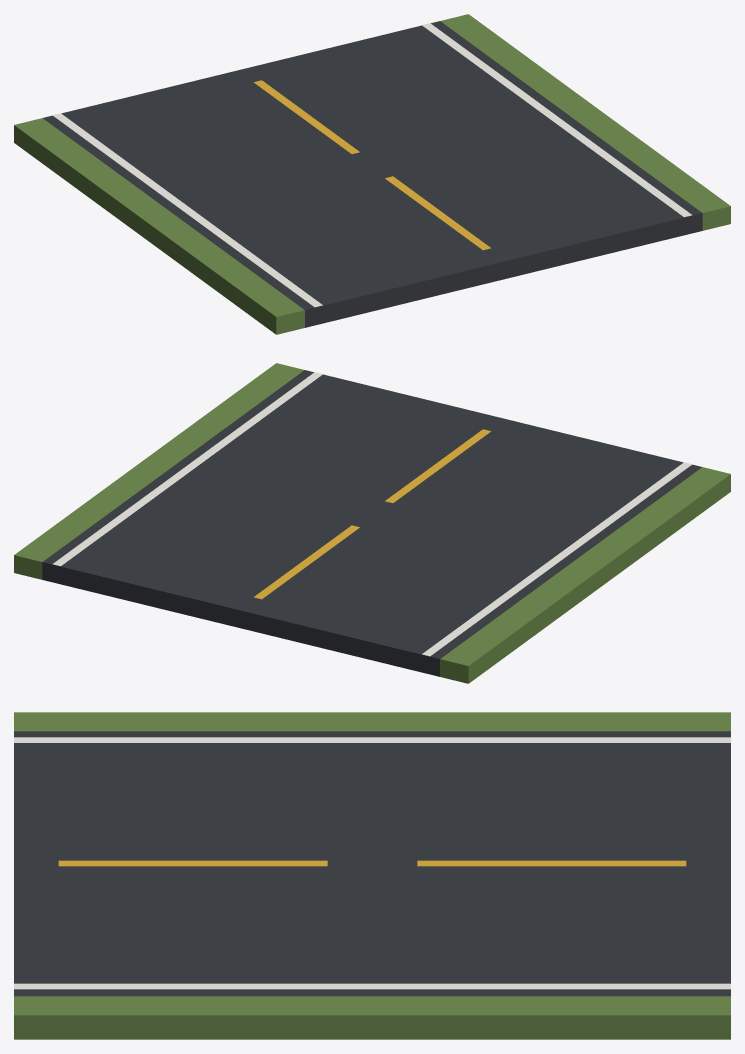
File: Road_2Lane_NoSidewalk_Straight_8m.glb
3 renders of one model, top to bottom at view 1: azimuth 30°, elevation 25°; view 2: azimuth 150°, elevation 25°; view 3: azimuth 270°, elevation 25°, orthographic. The views are drawn at different scales.
Visible parts, largest first — view 1: Road_2Lane_NoSidewalk_Straight_8m_Asphalt, Road_2Lane_NoSidewalk_Straight_8m_Grass-edge, Road_2Lane_NoSidewalk_Straight_8m_PaintWhite, Road_2Lane_NoSidewalk_Straight_8m_PaintYellow; view 2: Road_2Lane_NoSidewalk_Straight_8m_Asphalt, Road_2Lane_NoSidewalk_Straight_8m_Grass-edge, Road_2Lane_NoSidewalk_Straight_8m_PaintWhite, Road_2Lane_NoSidewalk_Straight_8m_PaintYellow; view 3: Road_2Lane_NoSidewalk_Straight_8m_Asphalt, Road_2Lane_NoSidewalk_Straight_8m_Grass-edge, Road_2Lane_NoSidewalk_Straight_8m_PaintWhite, Road_2Lane_NoSidewalk_Straight_8m_PaintYellow.
Part boxes in pixels (x1,y1,x2,y2): Road_2Lane_NoSidewalk_Straight_8m_Asphalt: (43,21,702,327); Road_2Lane_NoSidewalk_Straight_8m_Grass-edge: (14,14,730,334); Road_2Lane_NoSidewalk_Straight_8m_PaintWhite: (53,23,692,307); Road_2Lane_NoSidewalk_Straight_8m_PaintYellow: (254,80,490,250); Road_2Lane_NoSidewalk_Straight_8m_Asphalt: (42,370,701,676); Road_2Lane_NoSidewalk_Straight_8m_Grass-edge: (14,363,730,683); Road_2Lane_NoSidewalk_Straight_8m_PaintWhite: (52,372,691,656); Road_2Lane_NoSidewalk_Straight_8m_PaintYellow: (254,429,490,599); Road_2Lane_NoSidewalk_Straight_8m_Asphalt: (14,731,730,996); Road_2Lane_NoSidewalk_Straight_8m_Grass-edge: (14,712,730,1039); Road_2Lane_NoSidewalk_Straight_8m_PaintWhite: (14,737,730,989); Road_2Lane_NoSidewalk_Straight_8m_PaintYellow: (58,860,686,866).
Bounding box in the file's own units: 8 × 0.305 × 8.
